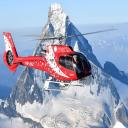helicopter: (1, 22, 112, 94)
